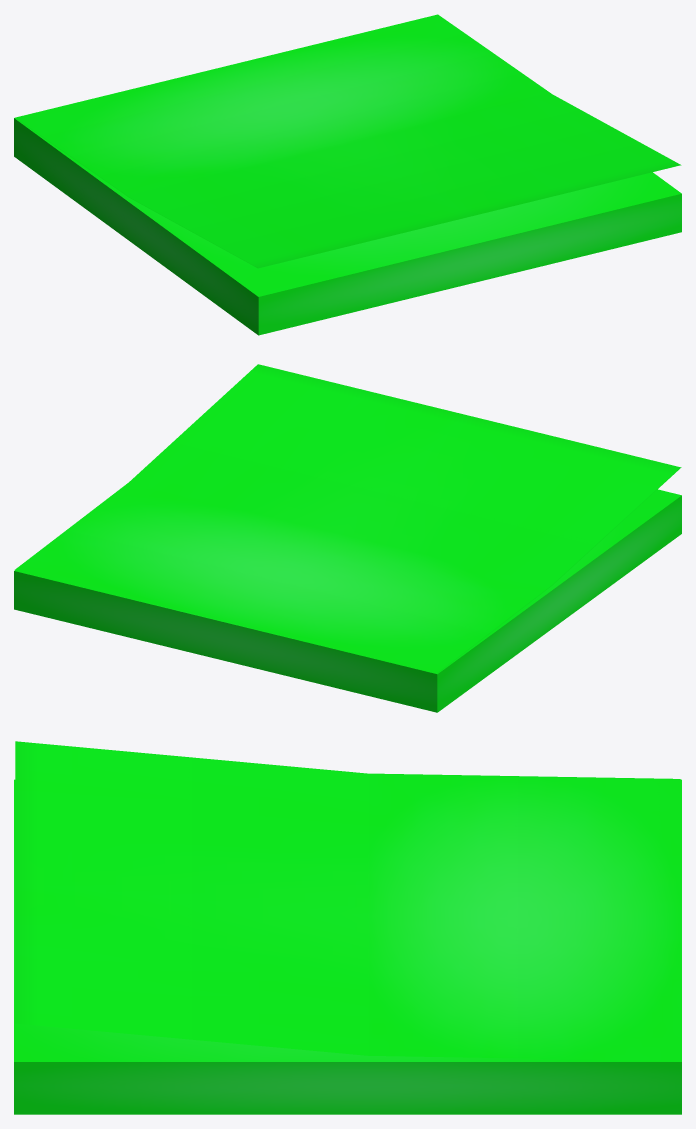
File: Stickynotes_C.FBX
The picture shows the model from 3 angles, top to bottom: view 1: azimuth 30°, elevation 25°; view 2: azimuth 150°, elevation 25°; view 3: azimuth 270°, elevation 25°; orthographic projection. The views are drawn at different scales.
Visible parts, largest first — view 1: Sticky_notes; view 2: Sticky_notes; view 3: Sticky_notes.
Boxes of the visible parts, x1,y1,x2,y2 form: Sticky_notes: (14, 14, 681, 335); Sticky_notes: (14, 364, 681, 712); Sticky_notes: (14, 741, 681, 1114).
Size of the model in its own units: 23 by 3.46 by 23.
